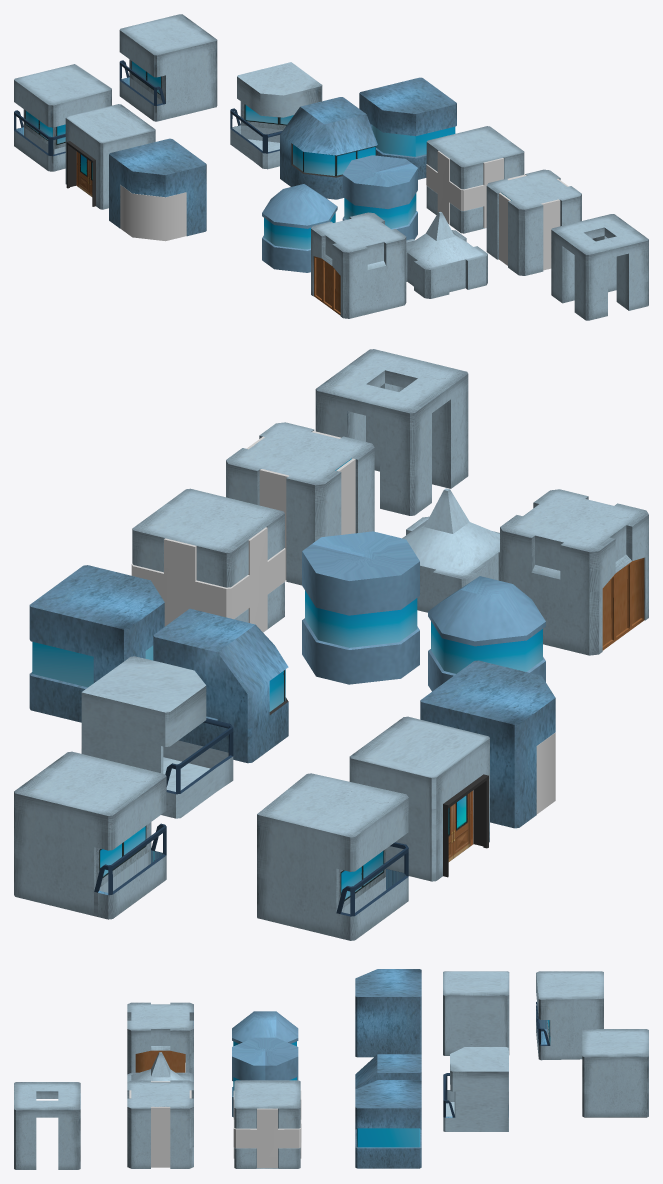
The model's file is EdificiosSolo.FBX.
3 views of the same model, one above another, from view 1: azimuth 30°, elevation 25°; view 2: azimuth 150°, elevation 25°; view 3: azimuth 270°, elevation 25° (orthographic). The views are drawn at different scales.
Parts seen in each view (by area): view 1: BloqueBalcon, basecolumnas, Iglesia, azul2, BloqueBalcon002, azul1, BloqueBalcon001, ventanaI, azulBase, BloqueBase, ventanaX, cilindro1 (+6 smaller); view 2: BloqueBalcon, BloqueBalcon002, basecolumnas, cilindro1, Iglesia, BloqueBalcon001, BloqueBase, azul1, azul2, azulBase, ventanaI, ventanaX (+6 smaller); view 3: BloqueBalcon, azul1, azulBase, BloqueBalcon002, BloqueBalcon001, BloqueBase, basecolumnas, ventanaI, ventanaX, Iglesia, cilindro1, cristalx (+5 smaller).
Boxes of the visible parts, bbox=[...] form: BloqueBalcon: bbox=[119, 14, 217, 121]; basecolumnas: bbox=[551, 214, 648, 320]; Iglesia: bbox=[311, 212, 406, 318]; azul2: bbox=[280, 97, 377, 199]; BloqueBalcon002: bbox=[14, 64, 111, 171]; azul1: bbox=[359, 77, 456, 179]; BloqueBalcon001: bbox=[230, 62, 322, 169]; ventanaI: bbox=[486, 169, 581, 275]; azulBase: bbox=[109, 138, 206, 236]; BloqueBase: bbox=[65, 104, 155, 209]; ventanaX: bbox=[426, 126, 524, 233]; cilindro1: bbox=[342, 155, 417, 240]; BloqueBalcon: bbox=[14, 751, 166, 919]; BloqueBalcon002: bbox=[257, 773, 408, 940]; basecolumnas: bbox=[315, 349, 468, 515]; cilindro1: bbox=[302, 531, 419, 684]; Iglesia: bbox=[500, 489, 648, 655]; BloqueBalcon001: bbox=[81, 656, 233, 818]; BloqueBase: bbox=[349, 716, 489, 881]; azul1: bbox=[29, 565, 164, 722]; azul2: bbox=[153, 608, 288, 763]; azulBase: bbox=[420, 660, 555, 828]; ventanaI: bbox=[226, 422, 374, 585]; ventanaX: bbox=[132, 488, 284, 632]; BloqueBalcon: bbox=[582, 1029, 648, 1117]; azul1: bbox=[355, 1080, 421, 1168]; azulBase: bbox=[355, 969, 421, 1057]; BloqueBalcon002: bbox=[536, 971, 603, 1060]; BloqueBalcon001: bbox=[443, 1047, 508, 1131]; BloqueBase: bbox=[443, 971, 509, 1055]; basecolumnas: bbox=[14, 1082, 80, 1169]; ventanaI: bbox=[127, 1080, 193, 1168]; ventanaX: bbox=[234, 1080, 300, 1168]; Iglesia: bbox=[127, 1002, 193, 1074]; cilindro1: bbox=[232, 1037, 298, 1117]; cristalx: bbox=[233, 1091, 301, 1168].
Size of the model in its own units: 502 by 100 by 955.
Materials: 1 (1 with a texture image).
